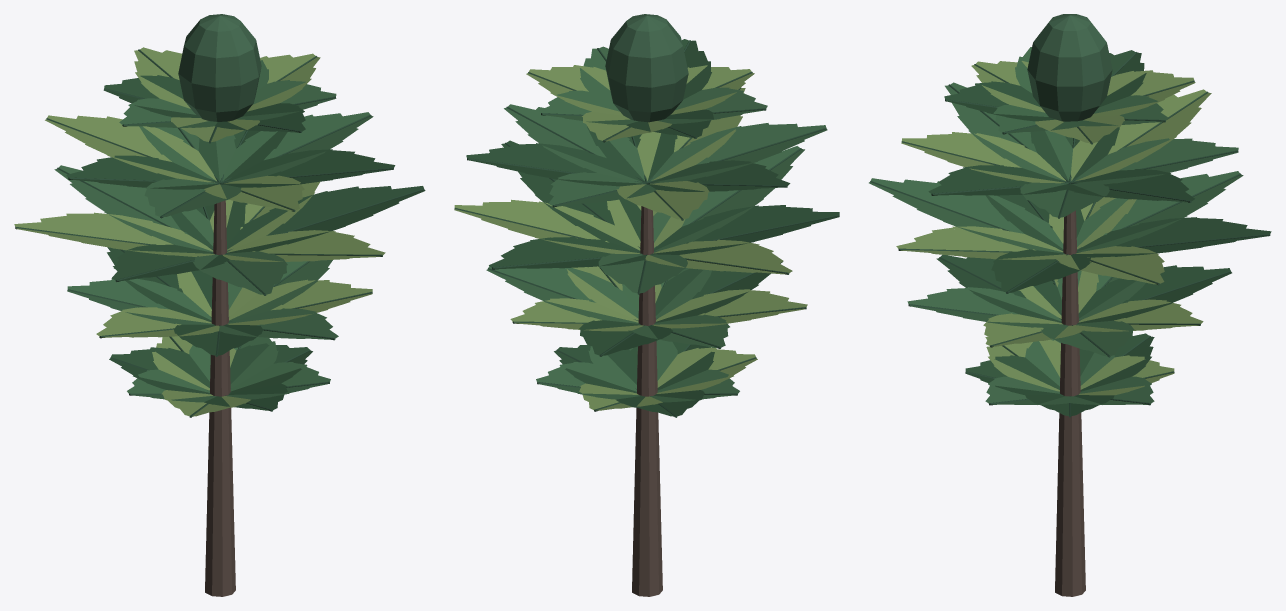
File: valley_tree_01.glb
The picture shows the model from 3 angles, left to right: view 1: azimuth 30°, elevation 25°; view 2: azimuth 150°, elevation 25°; view 3: azimuth 270°, elevation 25°; orthographic projection.
Visible parts, largest first — view 1: nature.tree.valley_01; view 2: nature.tree.valley_01; view 3: nature.tree.valley_01.
Part boxes in pixels (box(x1,y1,x2,y2)): nature.tree.valley_01: box(14, 14, 425, 596); nature.tree.valley_01: box(454, 14, 839, 596); nature.tree.valley_01: box(869, 14, 1271, 596).
Size of the model in its own units: 0.4448 by 0.6996 by 0.4448.
